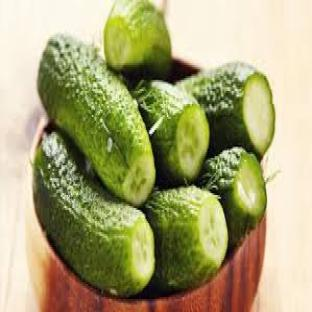Cucumber: (38, 36, 155, 206), (34, 132, 154, 297), (179, 64, 275, 157), (144, 186, 227, 293), (133, 80, 209, 185), (200, 147, 267, 246)
